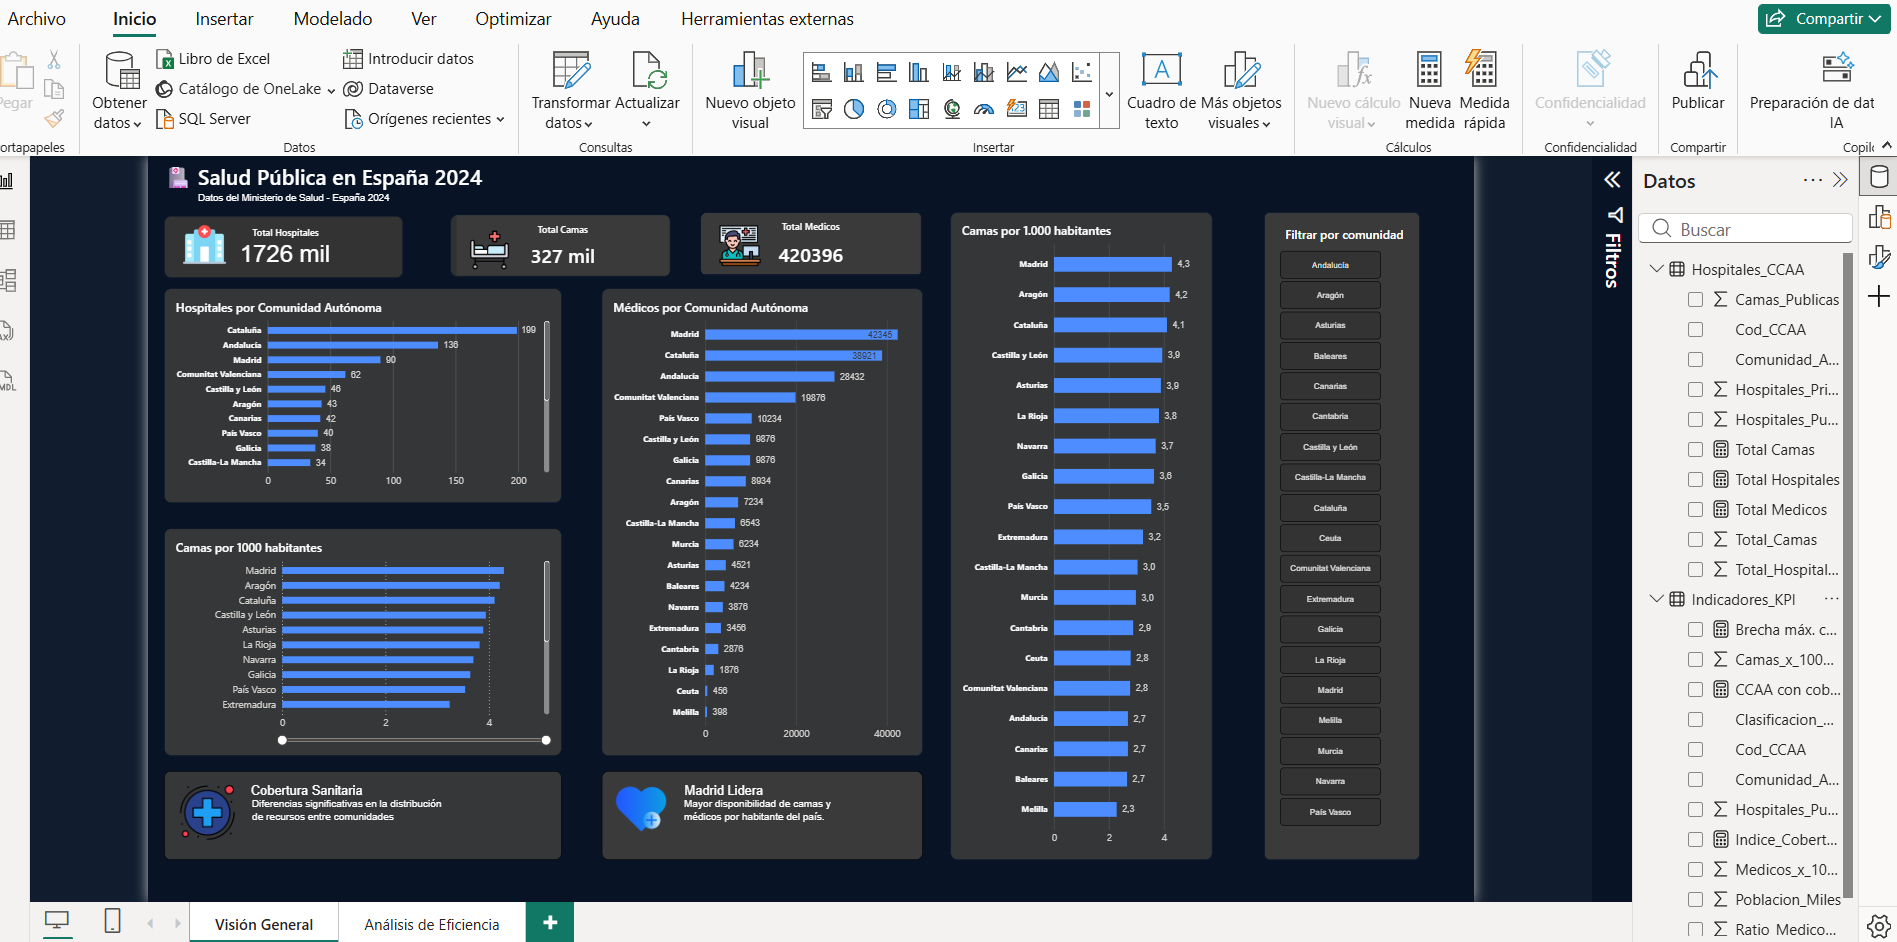

Layout of this report page (visuals, bound fields, positions):
{"tool":"powerbi","page":{"name":"Visión General","canvas":[1920,1080],"ordinal":0},"visuals":[{"type":"card","title":" Total Hospitales","fields":{"Values":["Hospitales_CCAA.Total Hospitales"]},"box":[22.9,87.5,345.8,89.6],"z":0},{"type":"cardVisual","title":"Total Camas","fields":{"Data":["Hospitales_CCAA.Total Camas"]},"box":[437.5,85.4,318.8,89.6],"z":1000},{"type":"cardVisual","title":"Total Medicos","fields":{"Data":["Hospitales_CCAA.Total Medicos"]},"box":[800,81.2,320.8,91.7],"z":2000},{"type":"barChart","title":"Hospitales por Comunidad Autónoma","fields":{"Category":["Hospitales_CCAA.Comunidad_Autonoma"],"Y":["Sum(Hospitales_CCAA.Total_Hospitales)"]},"box":[22.9,191.7,575,310.4],"z":3000},{"type":"barChart","title":"Médicos por Comunidad Autónoma","fields":{"Category":["Medicos_CCAA.Comunidad_Autonoma"],"Y":["Hospitales_CCAA.Total Medicos"]},"box":[656.2,191.7,464.6,677.1],"z":4000},{"type":"ChicletSlicer1448559807354","title":"  Filtrar por comunidad","fields":{"Category":["Hospitales_CCAA.Comunidad_Autonoma"]},"box":[1616.7,81.2,225,937.5],"z":5000},{"type":"barChart","title":"Camas por 1.000 habitantes","fields":{"Category":["Indicadores_KPI.Comunidad_Autonoma"],"Y":["Sum(Indicadores_KPI.Camas_x_1000hab)"]},"box":[1162.5,81.2,379.2,937.5],"z":6000},{"type":"barChart","title":"Camas por 1000 habitantes","fields":{"Category":["Indicadores_KPI.Comunidad_Autonoma"],"Y":["Sum(Indicadores_KPI.Camas_x_1000hab)"]},"box":[22.9,539.6,575,329.2],"z":7000},{"type":"textbox","title":"🏥 Salud Pública en España 2024","box":[22.1,9.1,519.5,59.7],"z":8000},{"type":"image","box":[50,89.6,62.5,75],"z":9000},{"type":"image","box":[462.5,97.9,62.5,77.1],"z":10000},{"type":"image","box":[820.8,100,70.8,60.4],"z":11000},{"type":"textbox","box":[22.9,889.6,575,129.2],"z":12000},{"type":"image","box":[37.5,906.2,95.8,87.5],"z":13000},{"type":"textbox","box":[656.2,889.6,464.6,129.2],"z":14000},{"type":"image","box":[670.8,897.9,85.4,95.8],"z":15000}]}

Visuals, with their boxes on the page's 1920x1080 design canvas (x1, y1, x2, y2). These are canvas units, not pixel positions in the 1897x942 screenshot, which may show the page scaled, cropped or inside an application window:
" Total Hospitales" card: {"left": 23, "top": 88, "right": 369, "bottom": 177}
"Total Camas" cardVisual: {"left": 438, "top": 85, "right": 756, "bottom": 175}
"Total Medicos" cardVisual: {"left": 800, "top": 81, "right": 1121, "bottom": 173}
"Hospitales por Comunidad Autónoma" barChart: {"left": 23, "top": 192, "right": 598, "bottom": 502}
"Médicos por Comunidad Autónoma" barChart: {"left": 656, "top": 192, "right": 1121, "bottom": 869}
"  Filtrar por comunidad" ChicletSlicer1448559807354: {"left": 1617, "top": 81, "right": 1842, "bottom": 1019}
"Camas por 1.000 habitantes" barChart: {"left": 1162, "top": 81, "right": 1542, "bottom": 1019}
"Camas por 1000 habitantes" barChart: {"left": 23, "top": 540, "right": 598, "bottom": 869}
"🏥 Salud Pública en España 2024" textbox: {"left": 22, "top": 9, "right": 542, "bottom": 69}
image: {"left": 50, "top": 90, "right": 112, "bottom": 165}
image: {"left": 462, "top": 98, "right": 525, "bottom": 175}
image: {"left": 821, "top": 100, "right": 892, "bottom": 160}
textbox: {"left": 23, "top": 890, "right": 598, "bottom": 1019}
image: {"left": 38, "top": 906, "right": 133, "bottom": 994}
textbox: {"left": 656, "top": 890, "right": 1121, "bottom": 1019}
image: {"left": 671, "top": 898, "right": 756, "bottom": 994}
